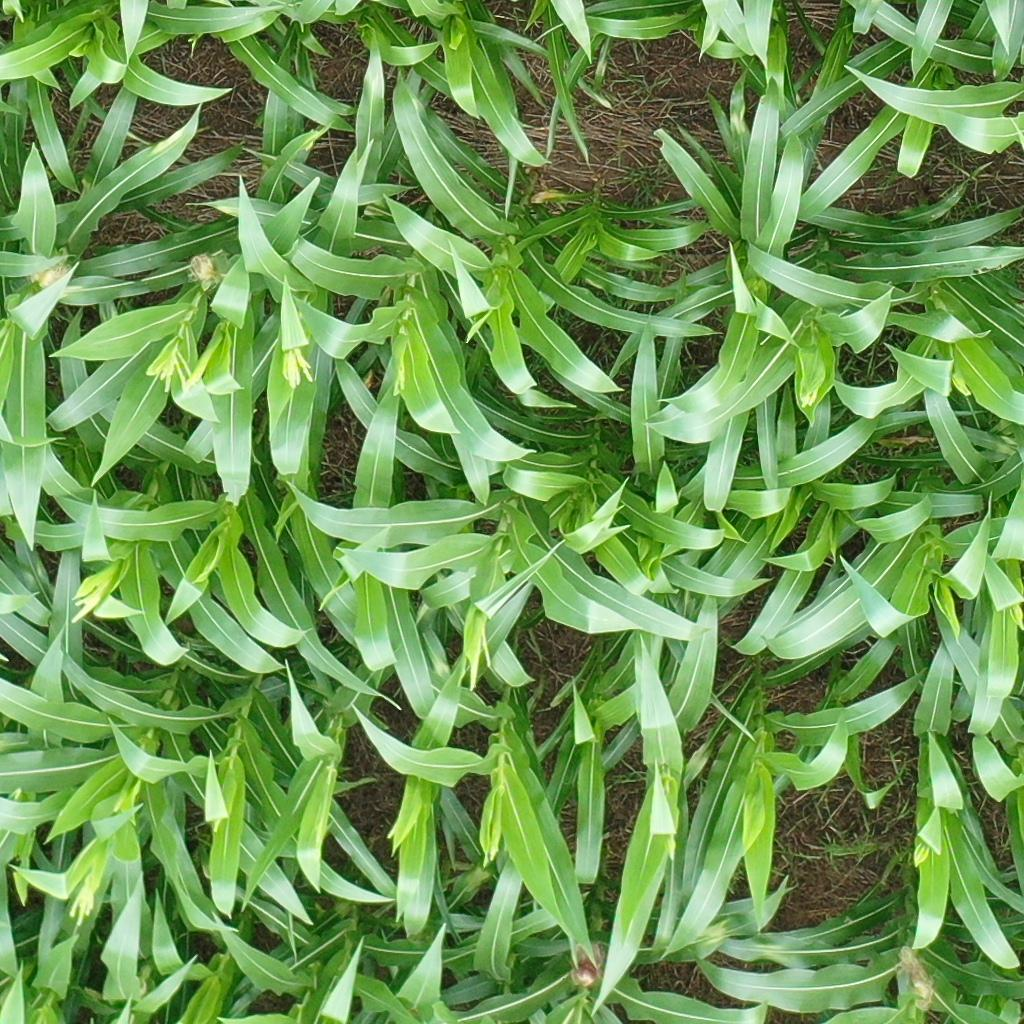Tassel: (146, 341, 210, 395), (456, 610, 493, 693), (61, 878, 101, 931), (276, 351, 318, 390), (69, 586, 108, 625), (392, 349, 410, 401), (796, 385, 819, 413)
